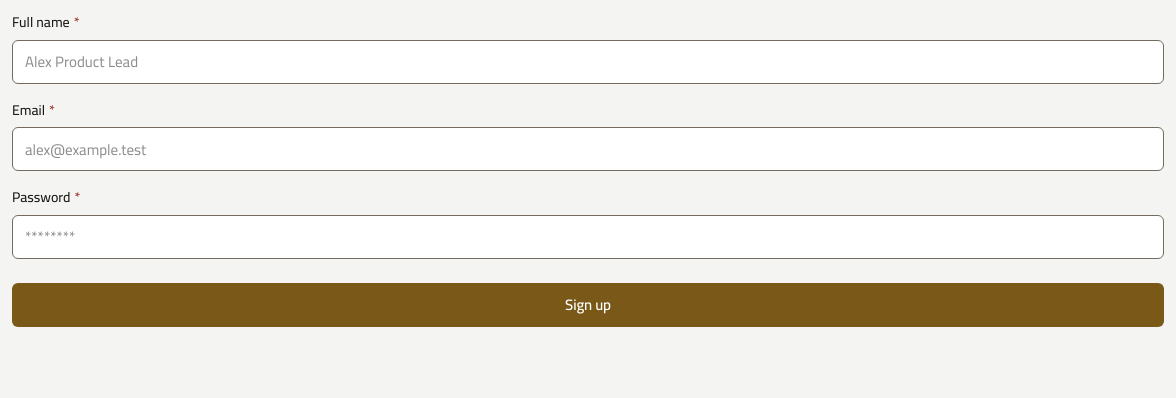
AuthForm Component › displays friendly AppError message when service rejects
Type "Valid Name" into the field labelled "Full name*" at (588, 62), box [12,40,1164,84]
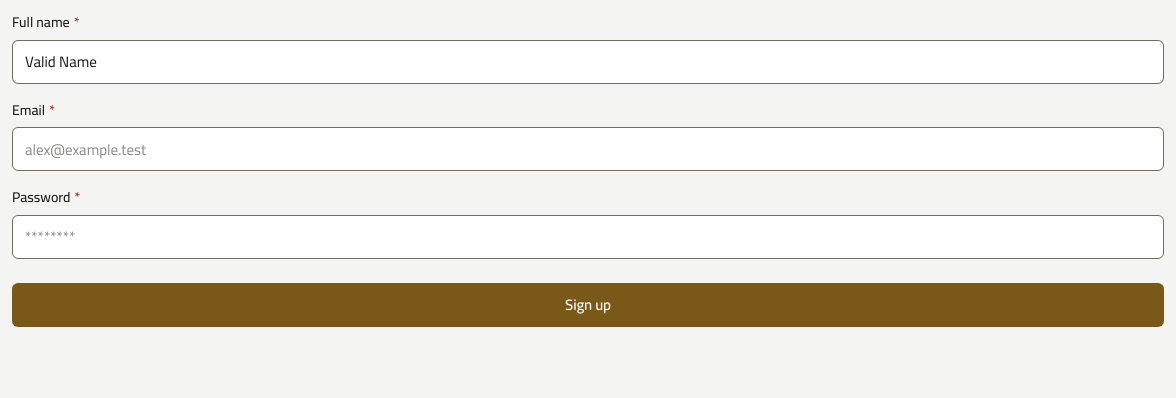
Type "test@example.com" into the field labelled "Email*" at (588, 149), box [12,127,1164,171]
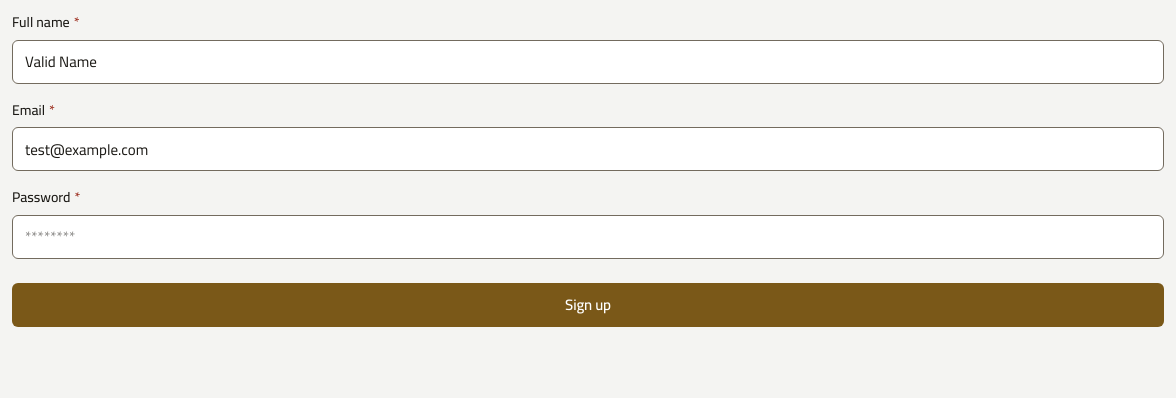
Type "123456" into the password field labelled "Password*" at (588, 237), box [12,215,1164,259]
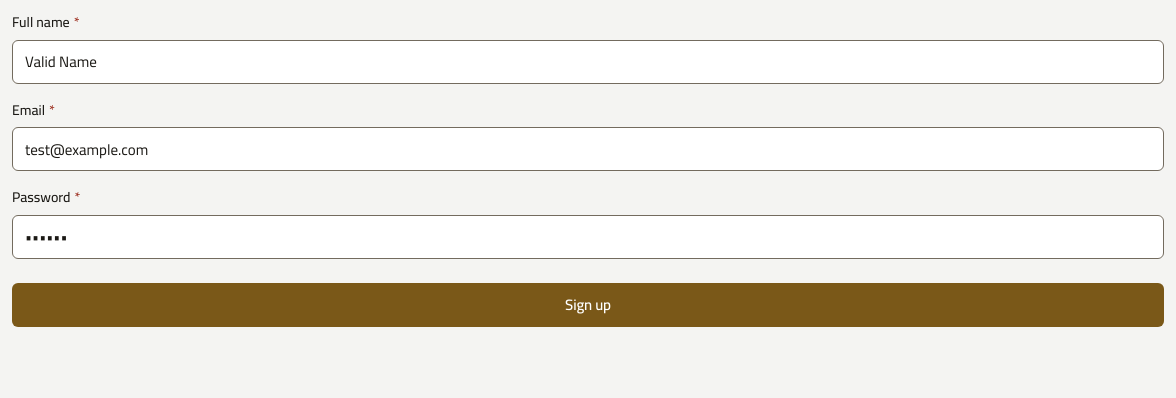
Click the button "Sign up" at (588, 305), box [12,283,1164,327]
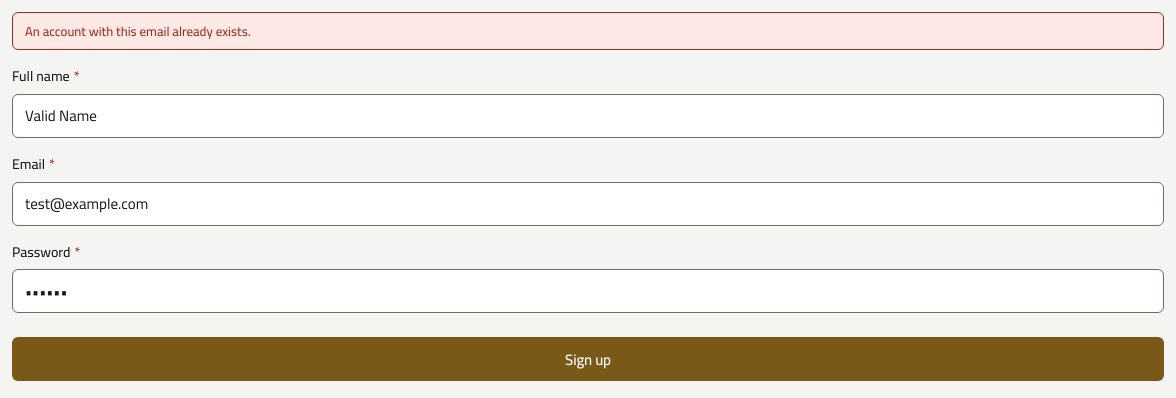
Now the text "An account with this email already exists." is shown, box [12,12,1164,50]
